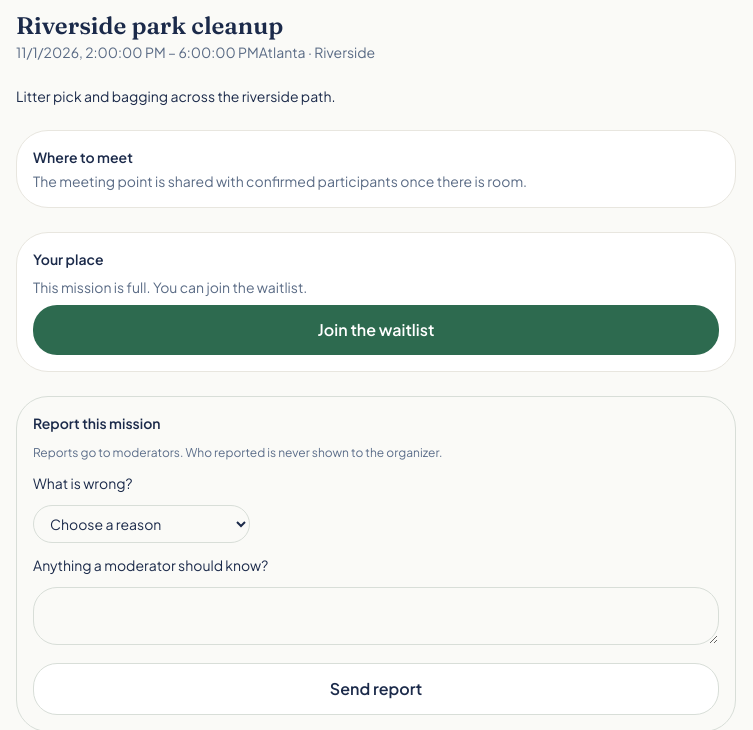
Test case: MissionDetailPage › joins through the real endpoint and reports the server's wording
Click the button "Join the waitlist": (376, 330) [33,305,719,355]
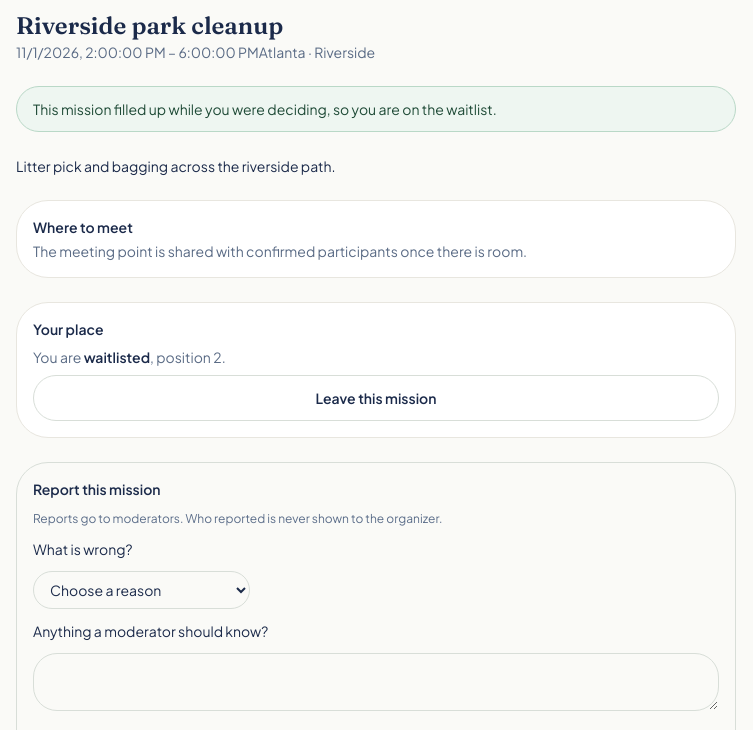
Result: the text "This mission filled up while you were deciding, so you are on the waitlist." is shown at [16,86,736,132]
Result: the text "You are waitlisted, position 2." is shown at [33,348,226,366]
